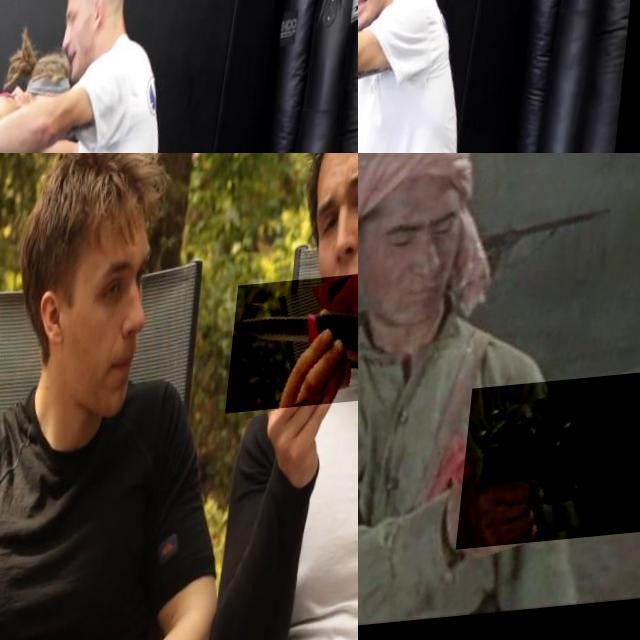-: (232, 279, 358, 419), (358, 62, 407, 153)
gun-knife-thesis - v11 Yolov5 augmented: (468, 380, 640, 558)
